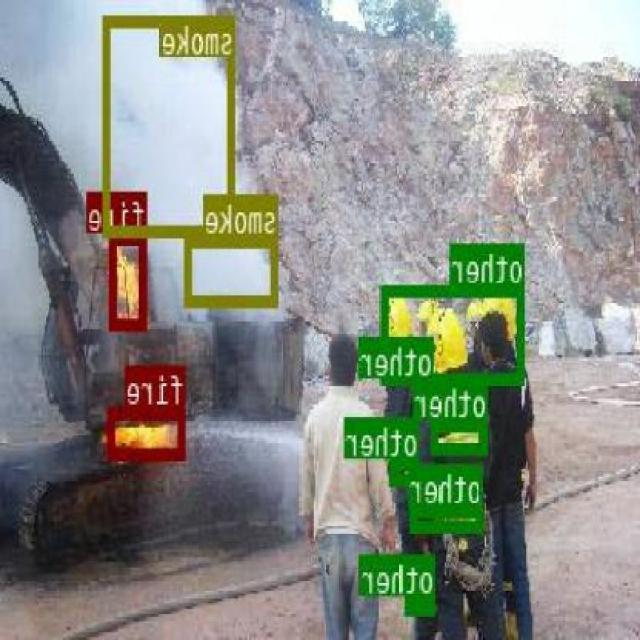Fire: (110, 405, 187, 458), (110, 232, 148, 330)
Smoke: (105, 14, 238, 234), (29, 14, 94, 125), (186, 234, 280, 306)
